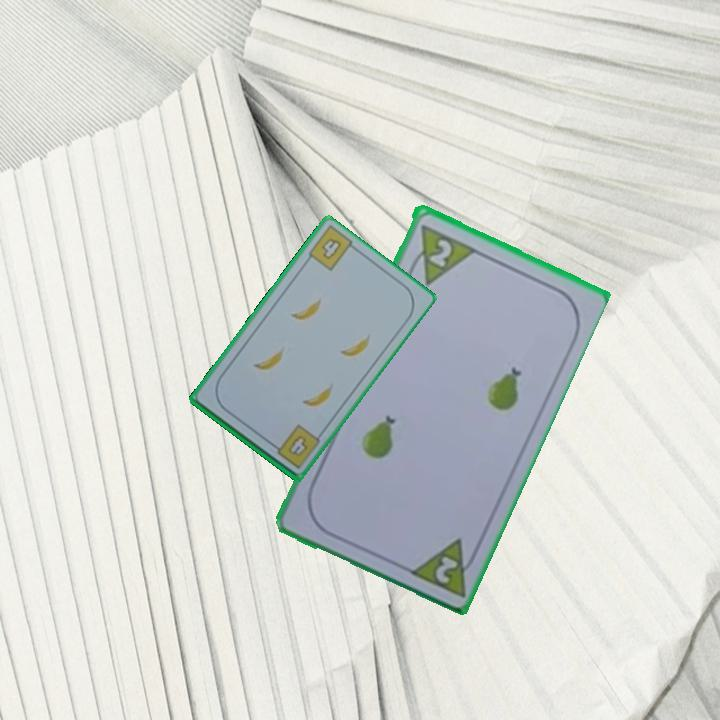2p: (404, 533, 483, 599), (425, 234, 455, 270)
4b: (267, 421, 320, 472), (318, 234, 344, 262)
